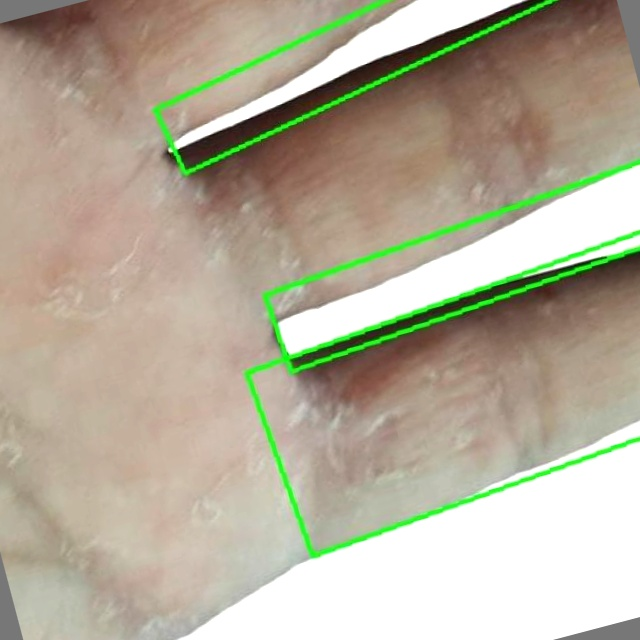Scabies: (247, 232, 639, 556), (265, 162, 639, 370), (155, 0, 550, 173)
